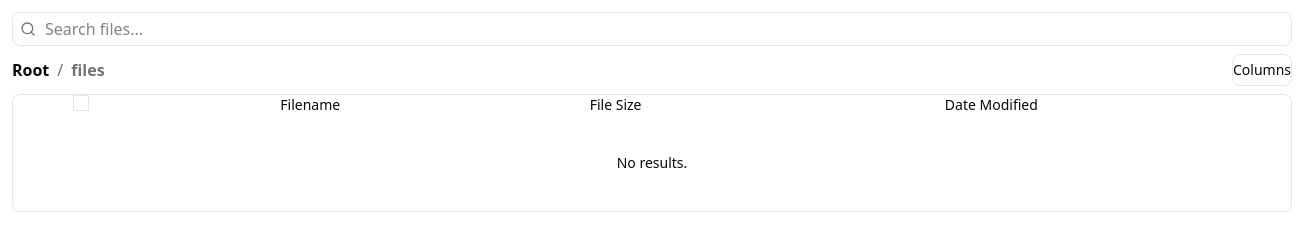
Test: Search Integration › Search Results Display › shows clear search button when searching
Step 1. Type "document" into the field with placeholder "Search files..." → (652, 29), box x1=12 y1=12 x2=1292 y2=46
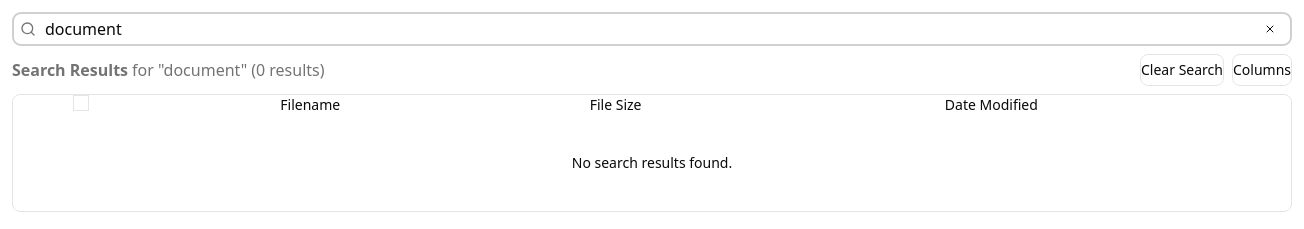
Result: the button "Clear Search" is shown at x1=1140 y1=54 x2=1224 y2=86
